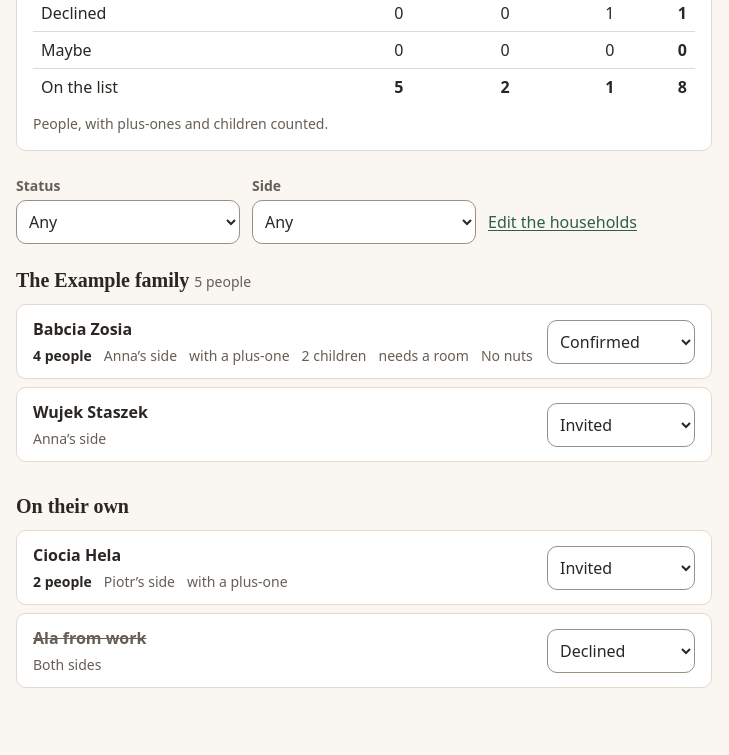
Test: the guest list › says so when an answer could not be recorded
(page scrolled)
Select "Declined" in the dropdown named "Status of Ciocia Hela" at (621,568), box [547, 546, 695, 590]
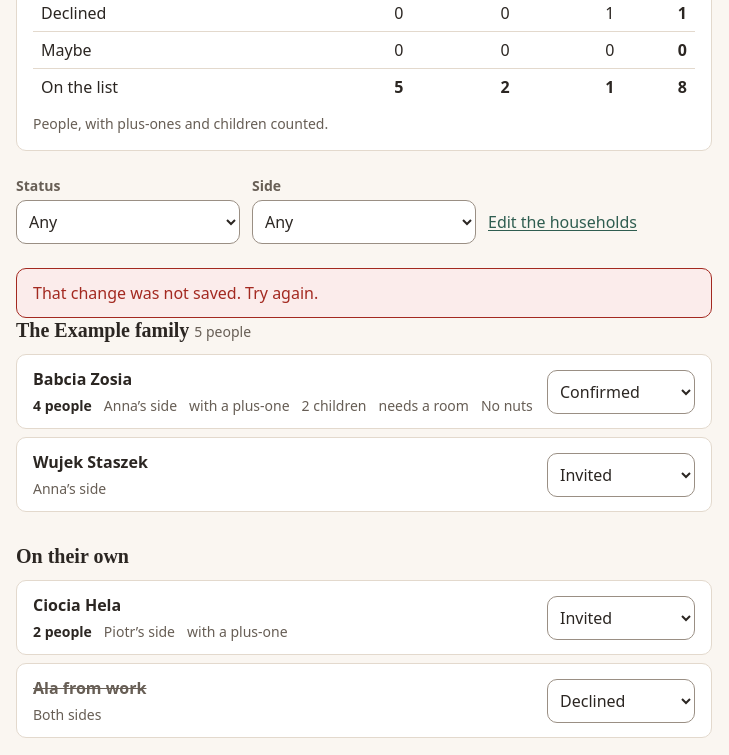
Expected: the message reads "That change was not saved. Try again.", [33, 282, 318, 304]
